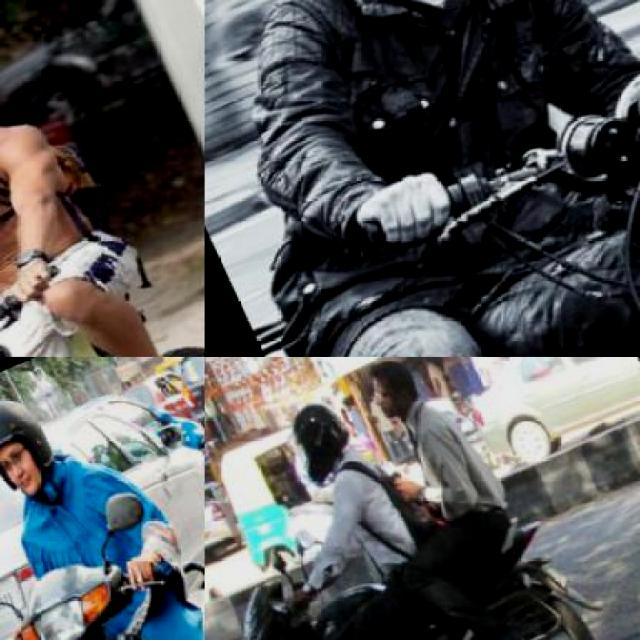With Helmet: (0, 379, 78, 515), (266, 392, 365, 494)
Without Helmet: (356, 357, 436, 432)
